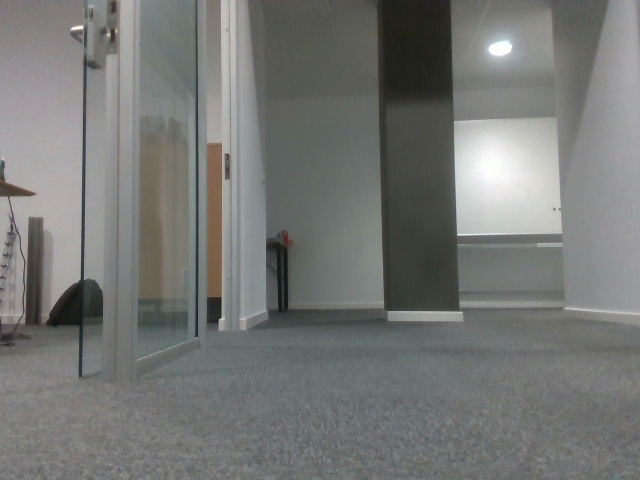alfa: (148, 303, 177, 328)
